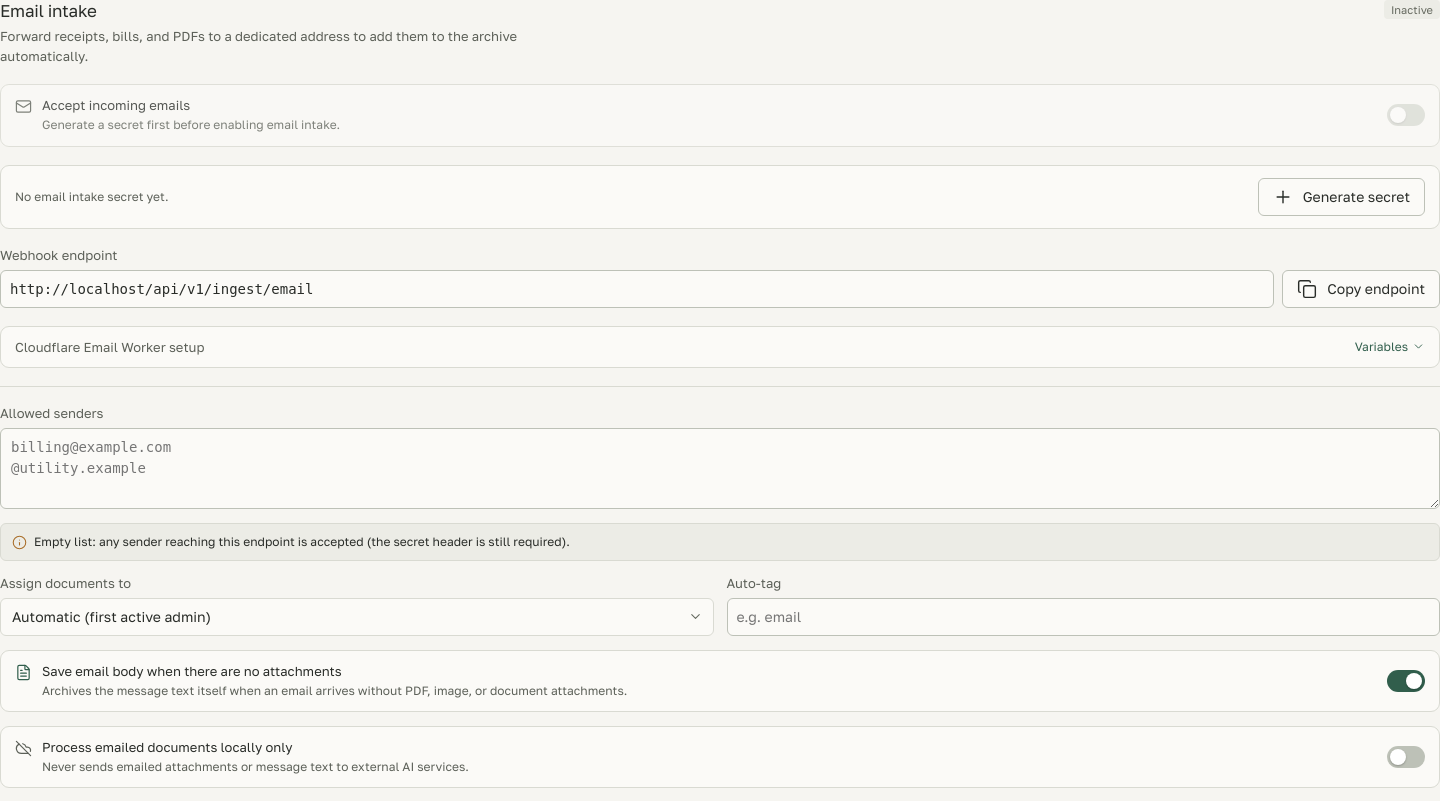
Test: EmailIntakeSection › generates a secret without confirmation, enables intake, shows prefix, and copies values
This screenshot has width=1440, height=801.
Later steps or results of the test are not shown.
Click the button "Generate secret" at (1341, 197), box [1258,178,1425,216]
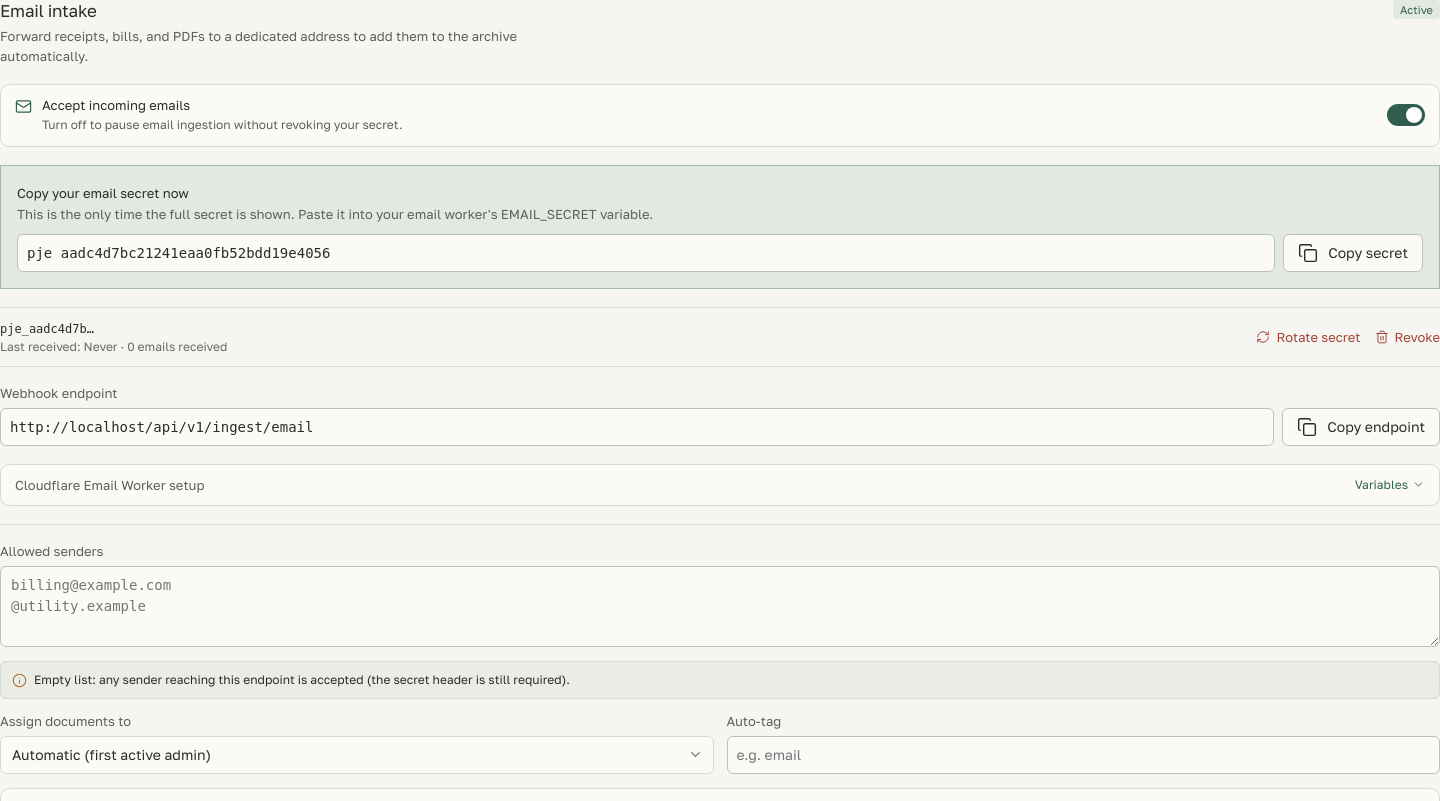
Expected: the text "0 emails received" is shown, [127,339,227,354]
Expected: the text "Last received: Never" is shown, [0,339,118,354]
Expected: the switch named "Accept incoming emails" is enabled
Click the switch named "Accept incoming emails" at (1406, 116), box [1387,104,1425,126]
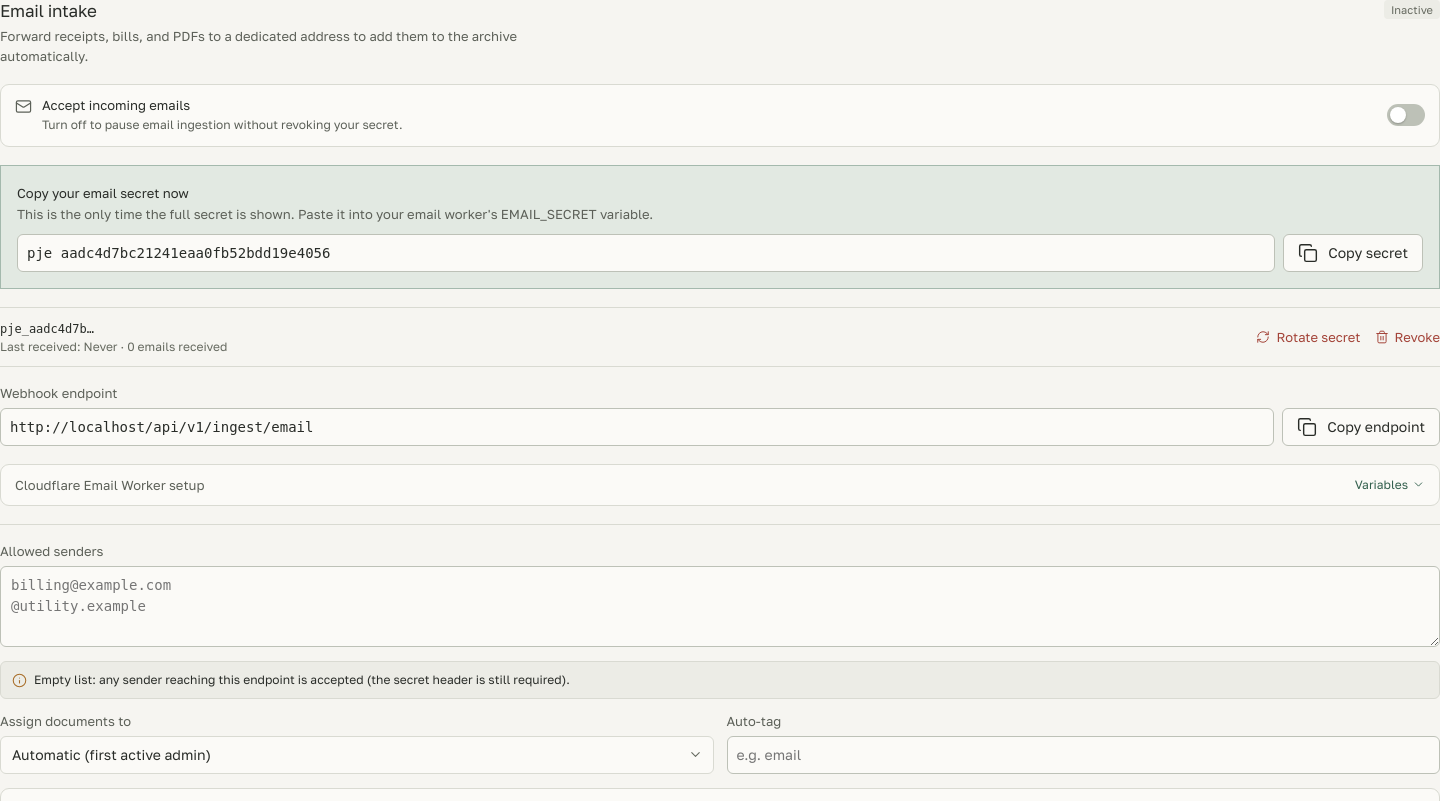
Expected: the switch named "Accept incoming emails" is not checked, [1387,104,1425,126]
Expected: the text "Inactive" is shown, [1384,0,1439,19]
